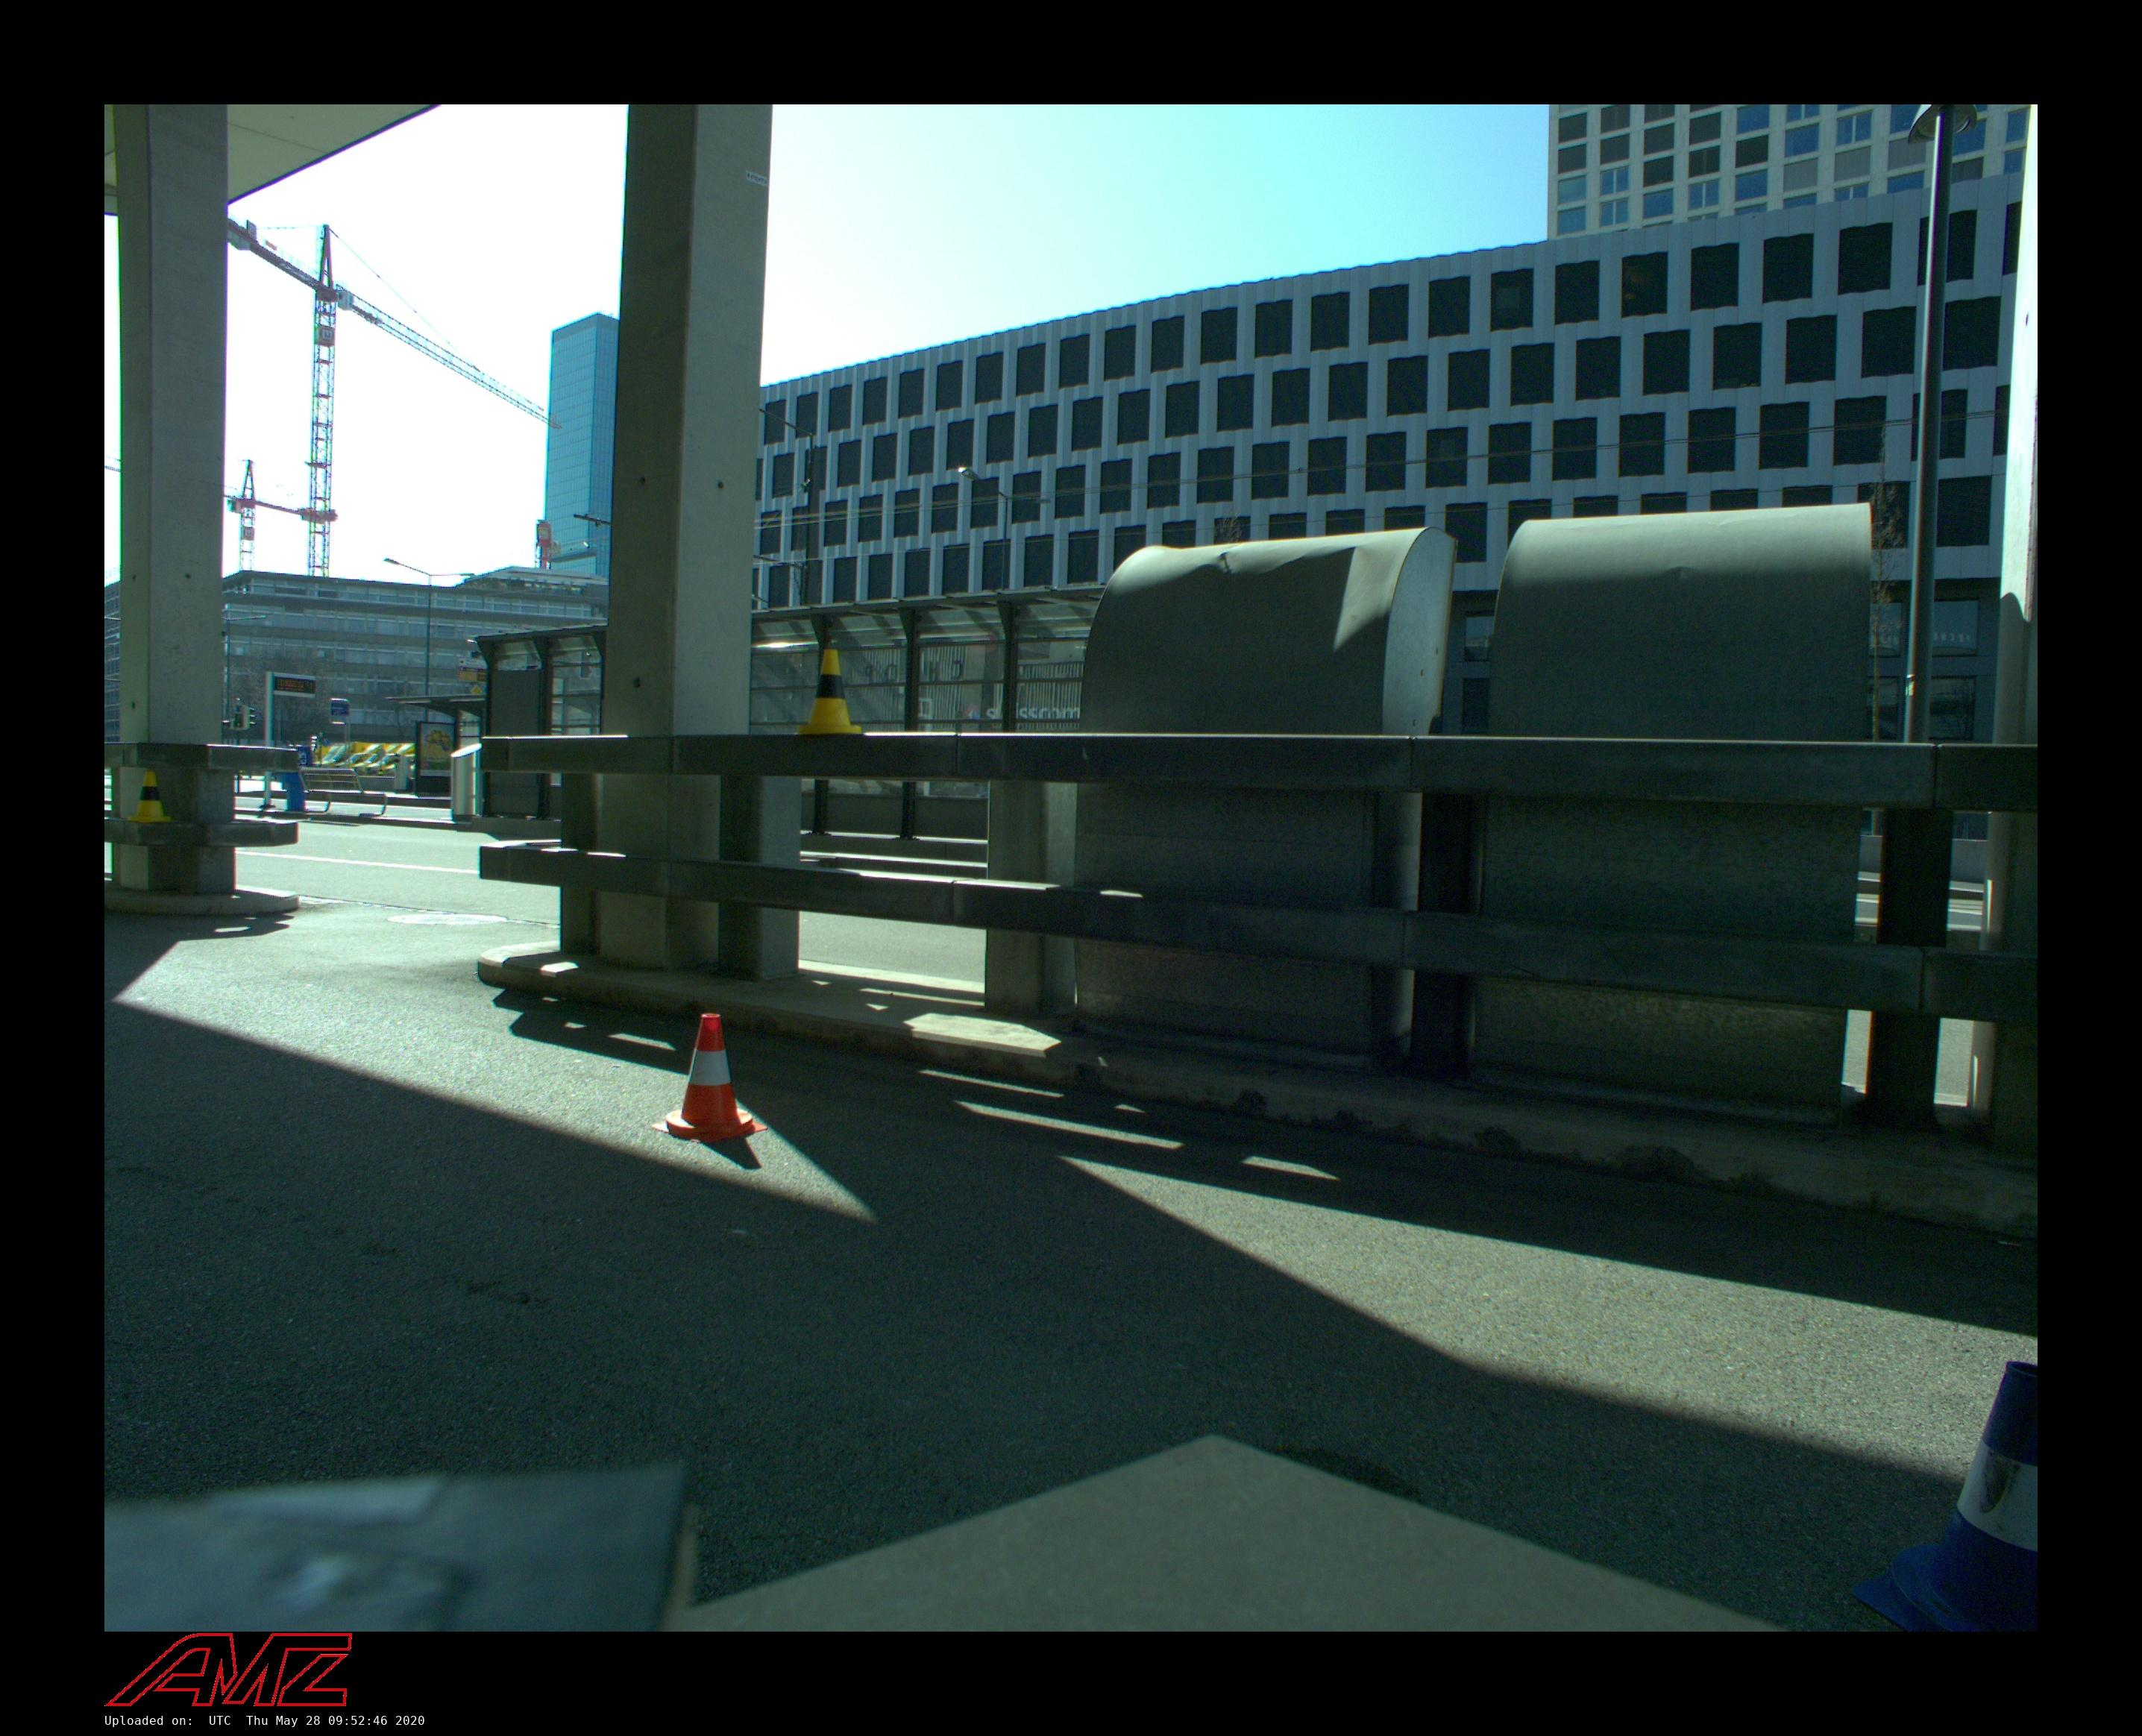blue_cone: (1855, 1360, 2037, 1631)
orange_cone: (650, 1013, 767, 1141)
yellow_cone: (797, 648, 861, 735), (128, 771, 168, 824)
